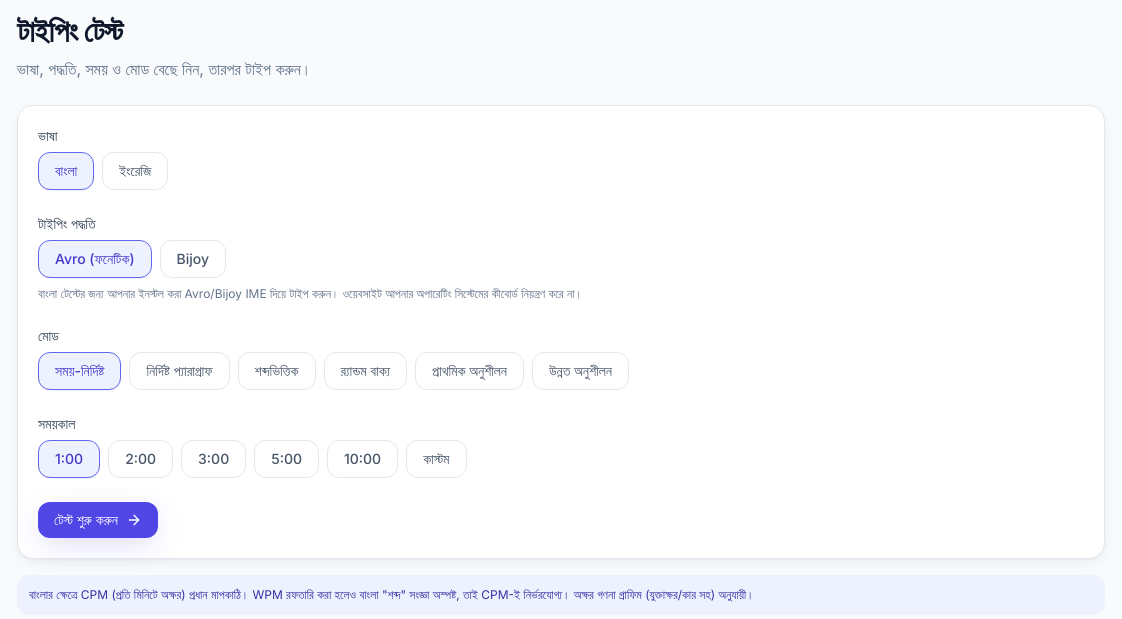
Scenario: TypingTest configuration › offers only English QWERTY for an English test
What coordinates should you click on to do the following:
click the radio button labelled "ইংরেজি"
I would click on:
 (135, 171)
Its box is [102, 152, 168, 190].
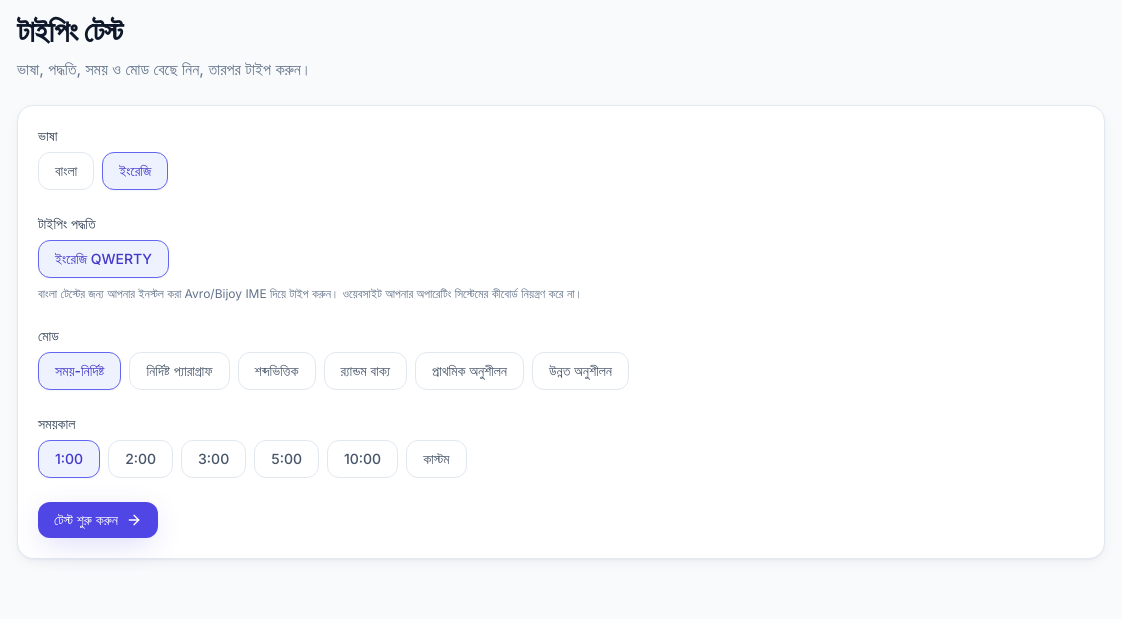
Check: the radio button labelled "Avro (ফনেটিক)" is gone
